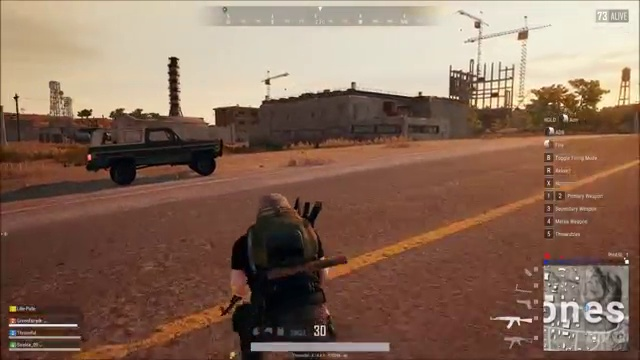Player: (204, 184, 368, 320)
